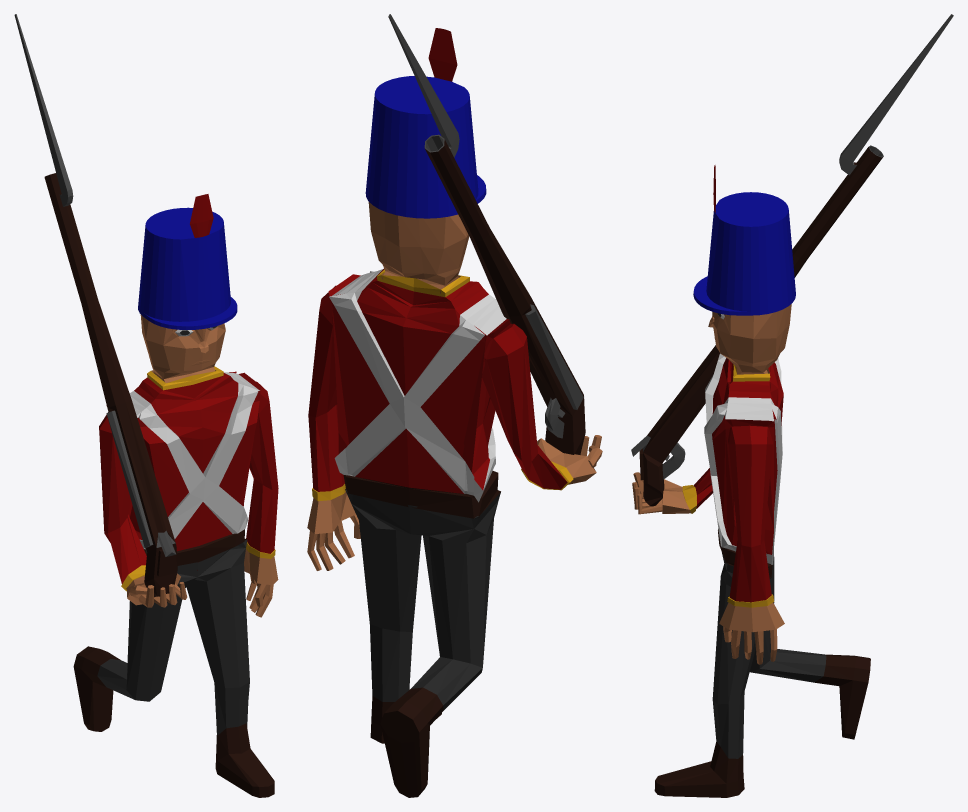
Rendered from Infantry_000143.obj.
3 views of the same model, side by side, from view 1: azimuth 30°, elevation 25°; view 2: azimuth 150°, elevation 25°; view 3: azimuth 270°, elevation 25° (orthographic). The views are drawn at different scales.
Visible parts, largest first — view 1: {Man}_Circle, {Mesket}_Cube.001; view 2: {Man}_Circle, {Mesket}_Cube.001; view 3: {Man}_Circle, {Mesket}_Cube.001.
Part boxes in pixels (<box>): {Man}_Circle: <box>73,194,278,797</box>; {Mesket}_Cube.001: <box>14,14,177,597</box>; {Man}_Circle: <box>307,28,602,797</box>; {Mesket}_Cube.001: <box>388,14,585,454</box>; {Man}_Circle: <box>632,165,870,797</box>; {Mesket}_Cube.001: <box>631,14,953,506</box>.
Bounding box in the file's own units: 5.63 × 19.61 × 7.93.
